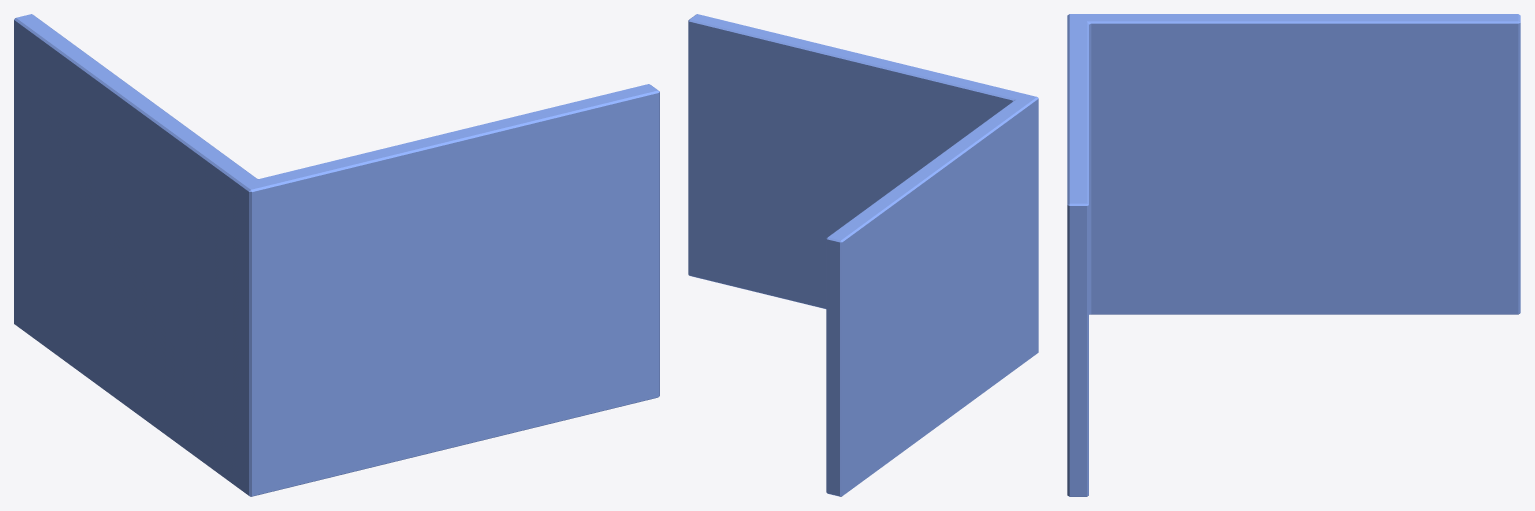
The model's file is Wall.glb.
3 views of the same model, side by side, from view 1: azimuth 30°, elevation 25°; view 2: azimuth 150°, elevation 25°; view 3: azimuth 270°, elevation 25° (orthographic). The views are drawn at different scales.
Parts seen in each view (by area): view 1: Wall.001; view 2: Wall.001; view 3: Wall.001.
Part boxes in pixels (x1,y1,x2,y2): Wall.001: [14, 14, 659, 496]; Wall.001: [688, 14, 1038, 496]; Wall.001: [1067, 14, 1520, 496].
Size of the model in its own units: 8.4 by 6 by 8.4.
